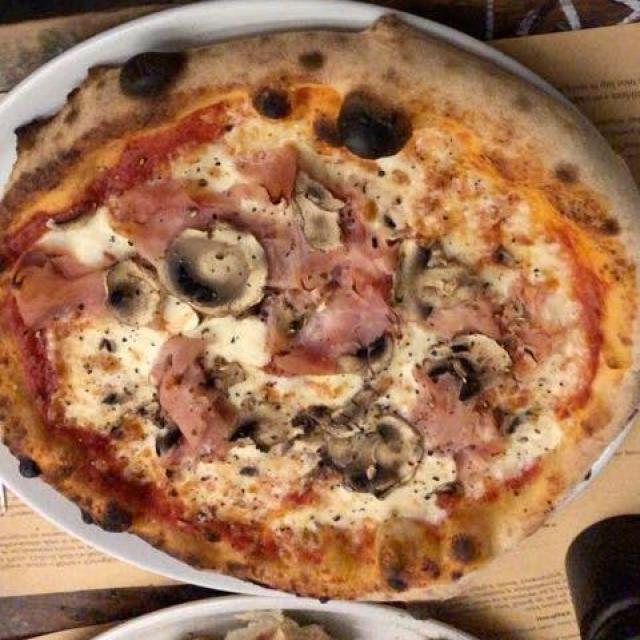Pizza: (0, 27, 638, 593)
